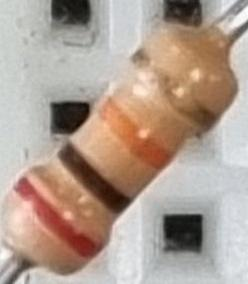Brown: (53, 139, 133, 218)
Orange: (95, 95, 177, 175)
Red: (11, 174, 107, 265)
Side-Gold: (128, 47, 219, 135)
